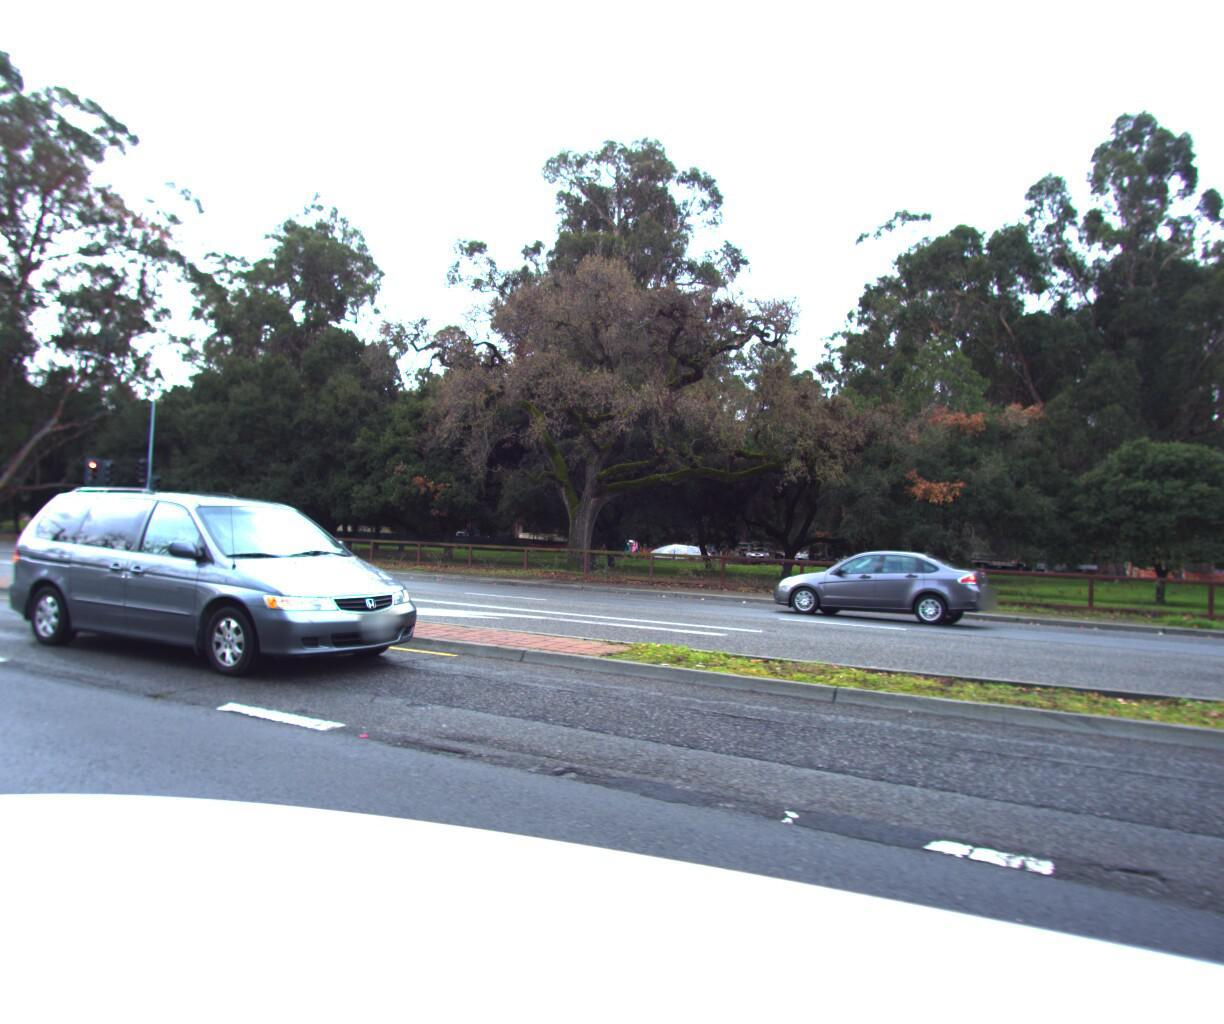car: (0, 479, 426, 695), (764, 547, 1007, 635)
